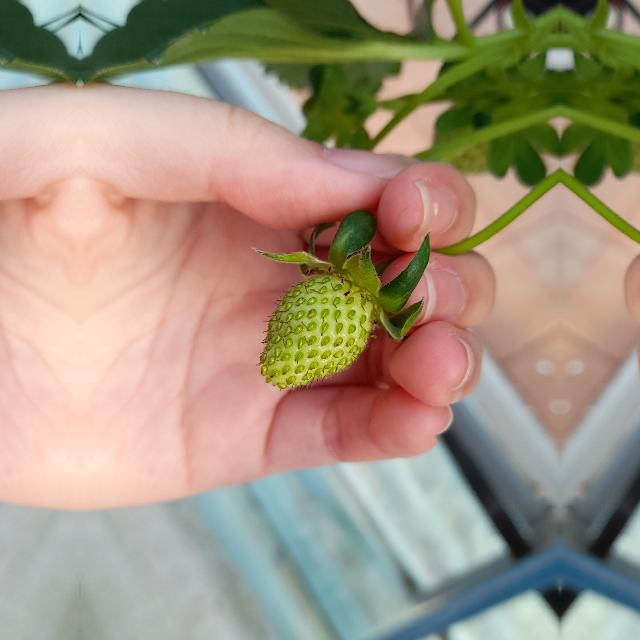Health_25: (260, 272, 374, 388)
